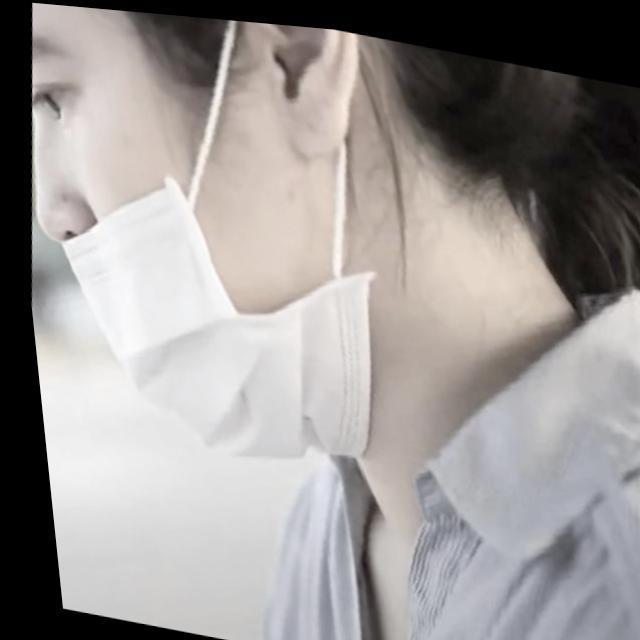hairnet: (1, 6, 414, 484)
